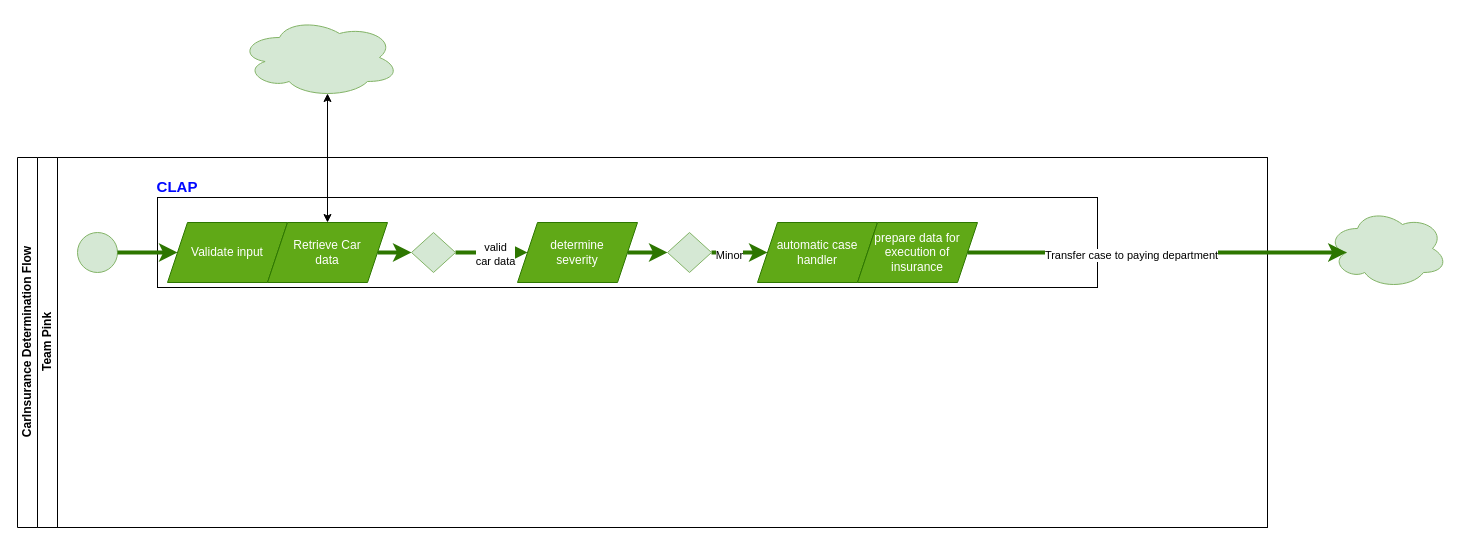
The diagram is 1465 pixels wide and 545 high, and some of its shapes have lost their labels. Each missing label, with the box of its shape:
Application Case Liability And Prosecution: (156, 196, 1098, 288)
Car Licence Office: (238, 16, 400, 98)
insurance payout execution: (1326, 208, 1448, 288)
New Case: (76, 232, 118, 272)
